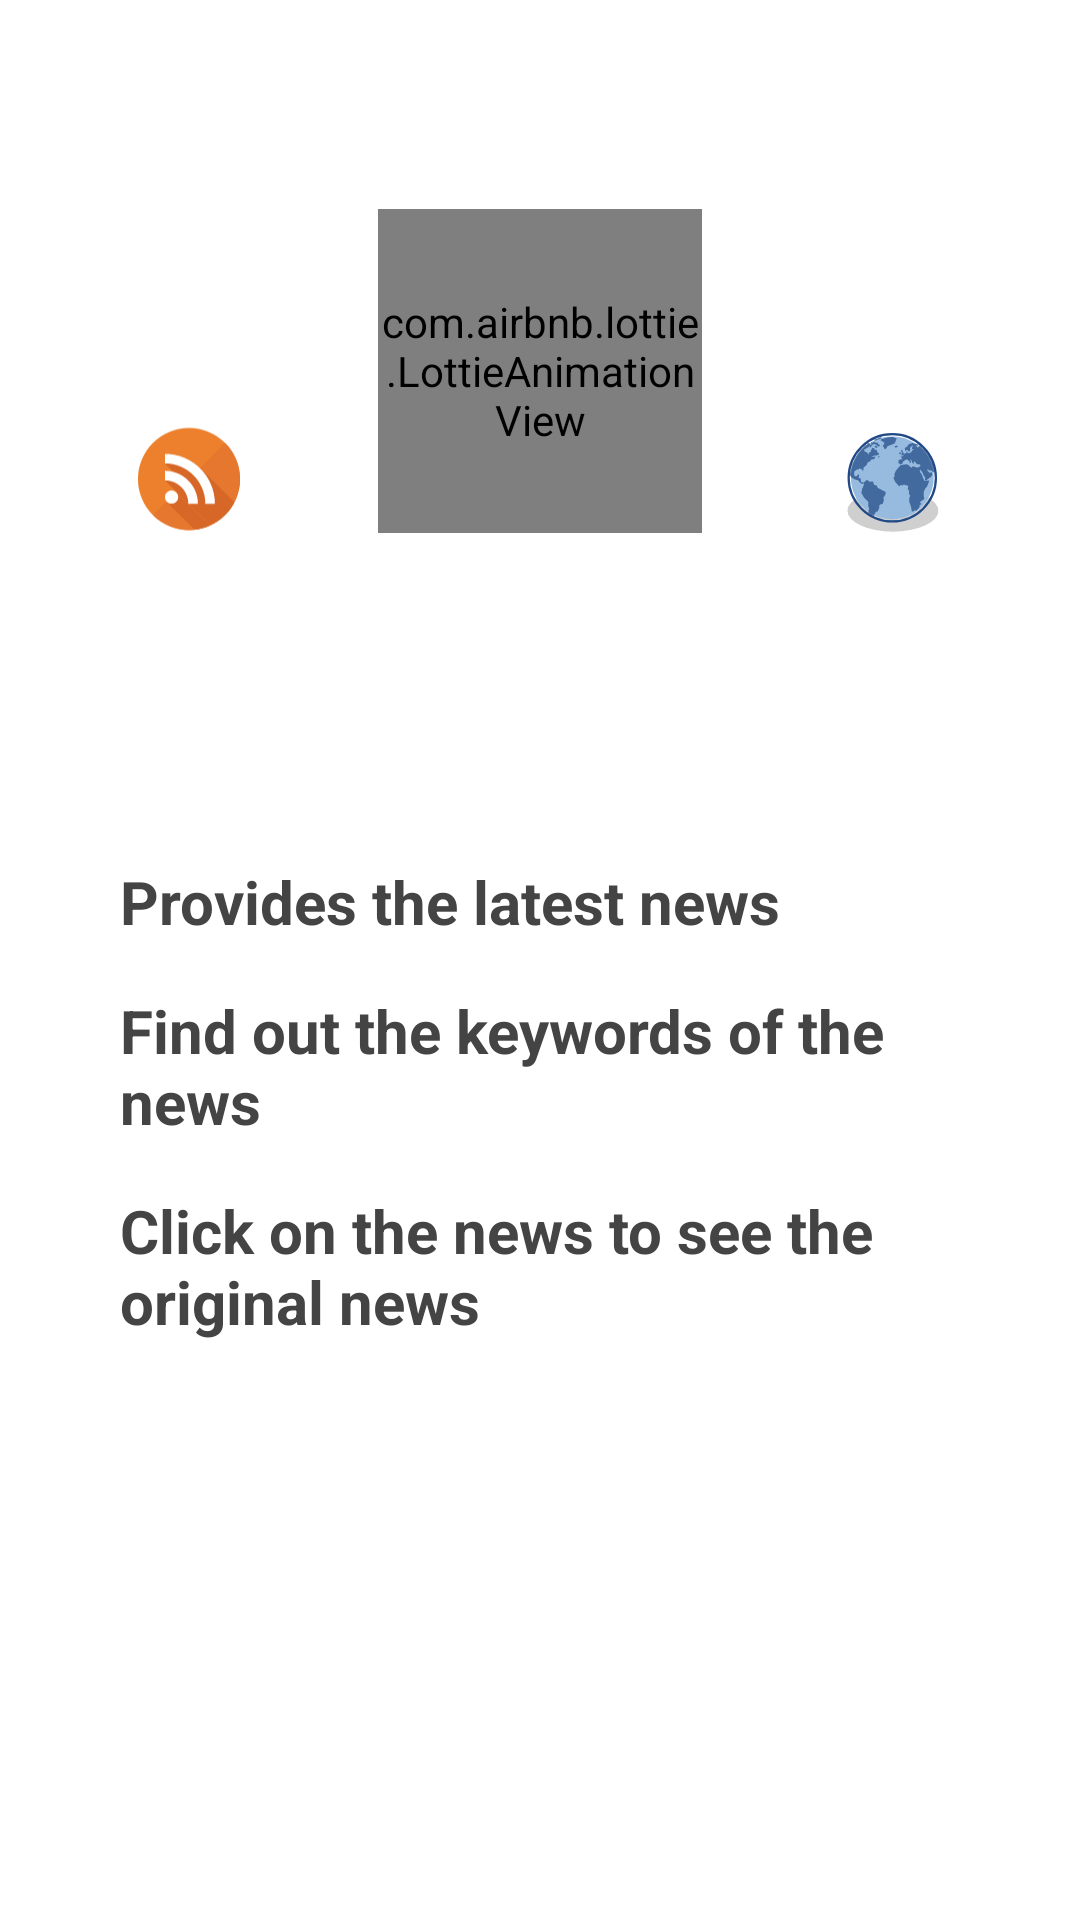

Named icons in this screenshot (1080*1920) and their bounding boxes, box(x1, y1, x2, y2):
web: box(847, 433, 938, 532)
